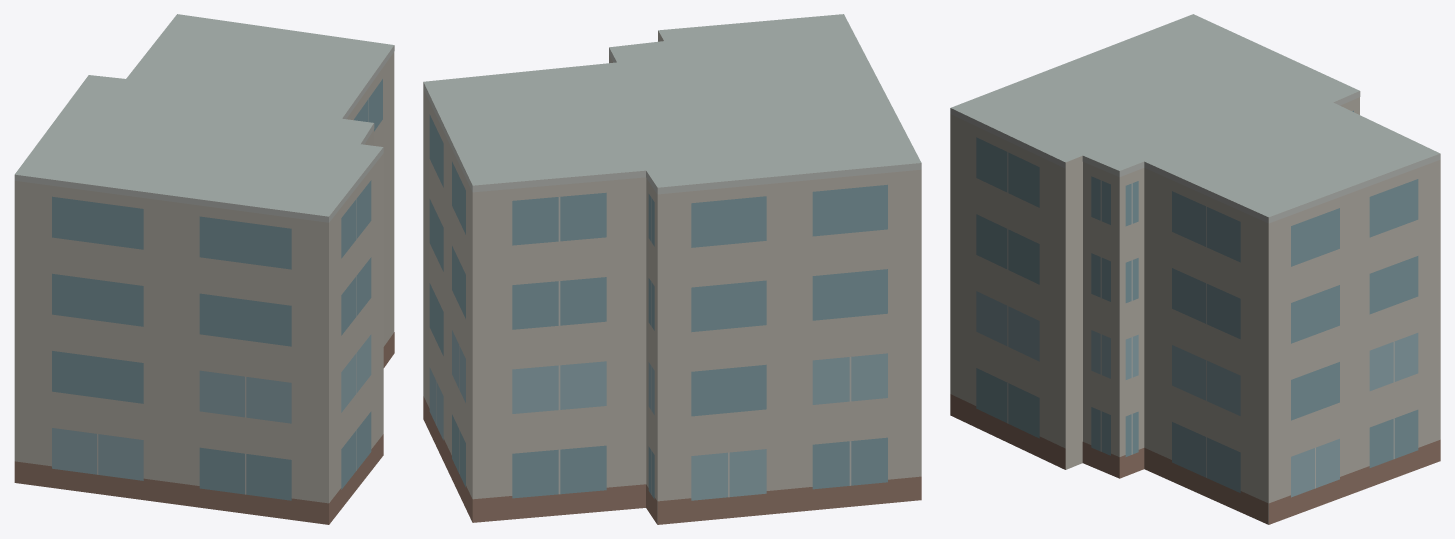
The model's file is survey-upis-32773784.glb.
The picture shows the model from 3 angles, left to right: view 1: azimuth 30°, elevation 25°; view 2: azimuth 150°, elevation 25°; view 3: azimuth 270°, elevation 25°; orthographic projection. The views are drawn at different scales.
Parts seen in each view (by area): view 1: survey-upis-32773784.tmp; view 2: survey-upis-32773784.tmp; view 3: survey-upis-32773784.tmp.
Boxes of the visible parts, bbox=[...] form: survey-upis-32773784.tmp: bbox=[14, 14, 394, 524]; survey-upis-32773784.tmp: bbox=[423, 14, 921, 524]; survey-upis-32773784.tmp: bbox=[950, 14, 1440, 524].
Bounding box in the file's own units: 17.31 × 12.2 × 17.63.
